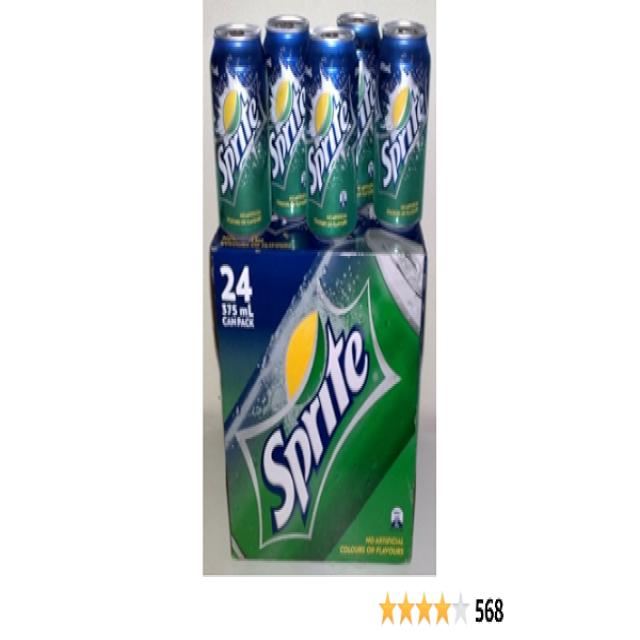sprite: (208, 214, 415, 545), (202, 24, 274, 249), (303, 39, 356, 266), (257, 9, 311, 229), (380, 12, 426, 225), (340, 22, 383, 206)
